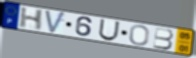6: (75, 16, 94, 38)
B: (152, 26, 174, 51)
H: (18, 6, 46, 31)
O: (128, 24, 151, 47)
U: (98, 18, 122, 42)
V: (44, 9, 67, 35)
